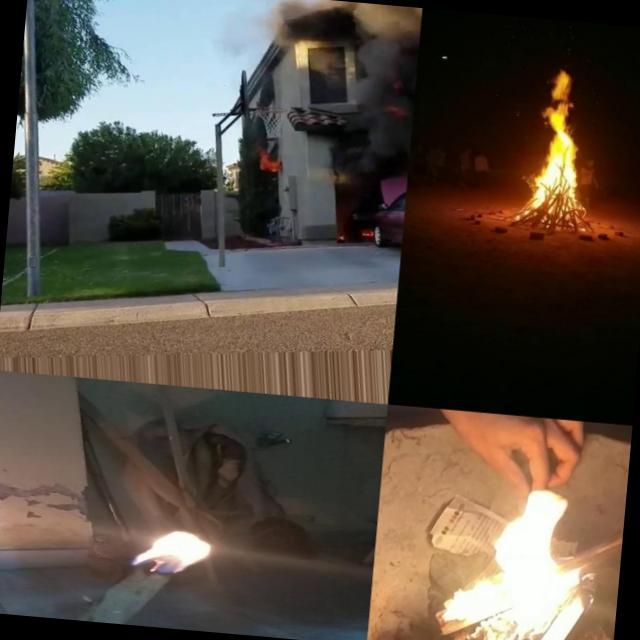fire: (438, 472, 609, 640), (516, 58, 594, 220), (124, 526, 234, 580)
smoke: (337, 2, 422, 166), (263, 0, 349, 59)
